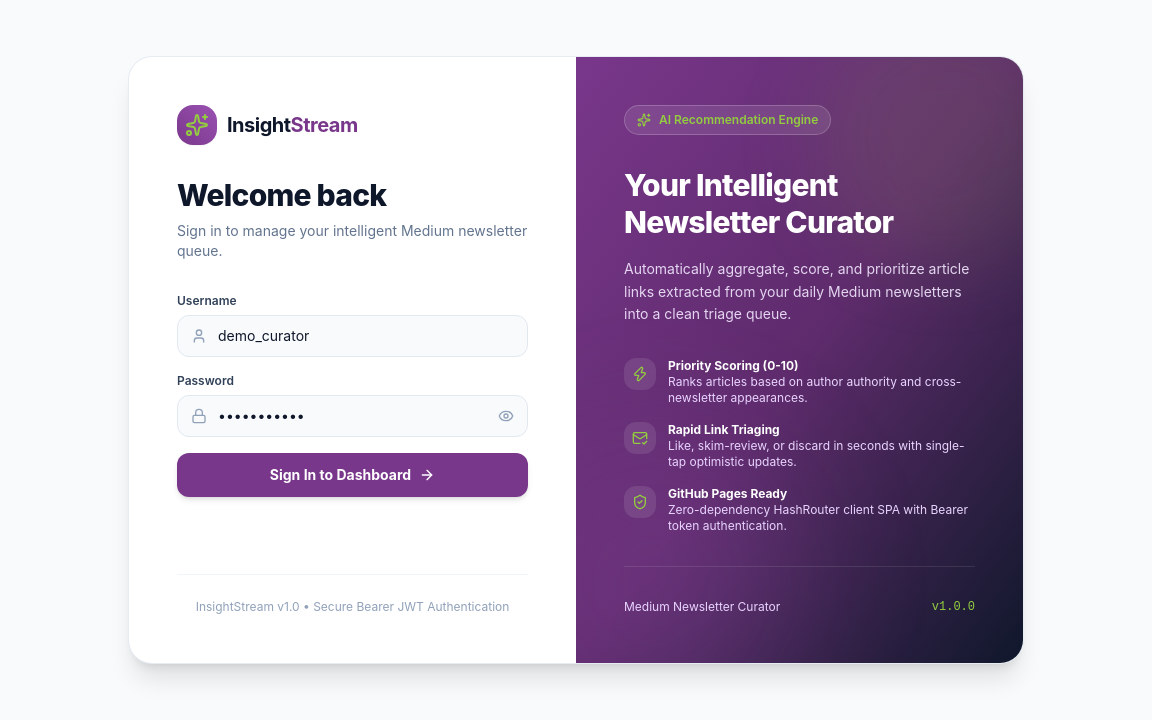
Test: LoginPage › shows the error message returned by a failed login
This screenshot has width=1152, height=720.
Click the button "Sign In to Dashboard": (352, 475) [177,453,528,497]
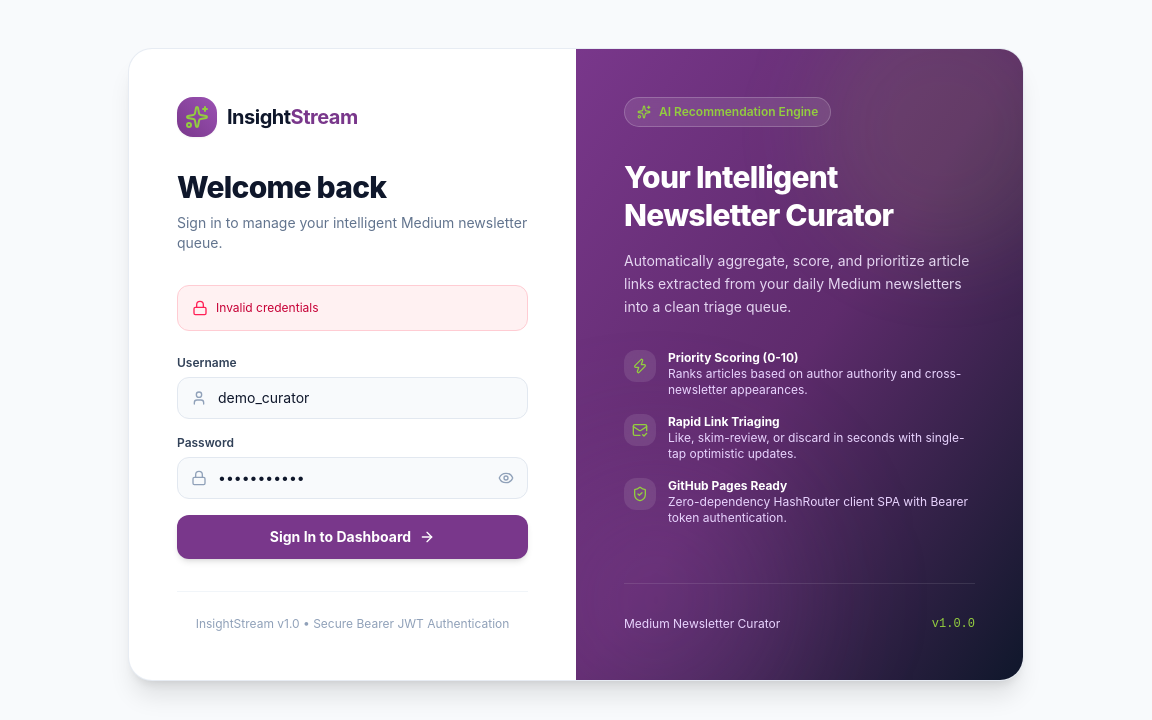
Check: the text "Invalid credentials" is shown, box [216,300,318,316]
